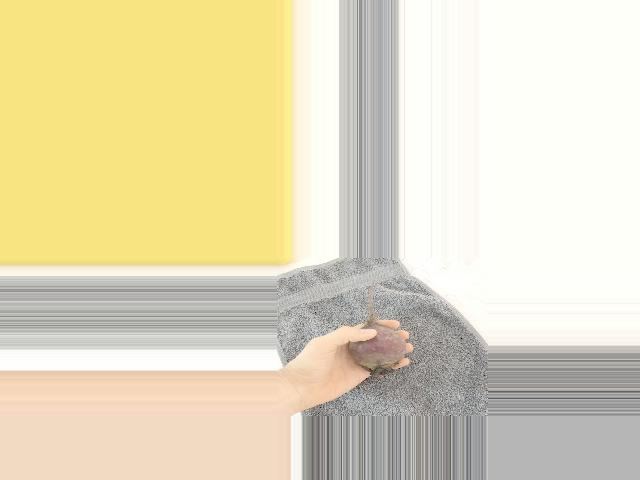beet: (348, 280, 406, 375)
